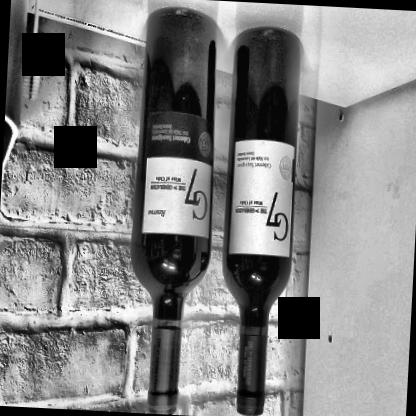G7: (228, 138, 297, 260)
